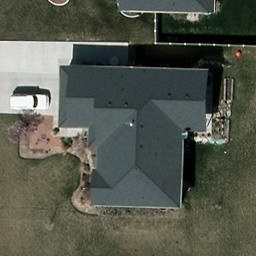car: (9, 94, 53, 111)
